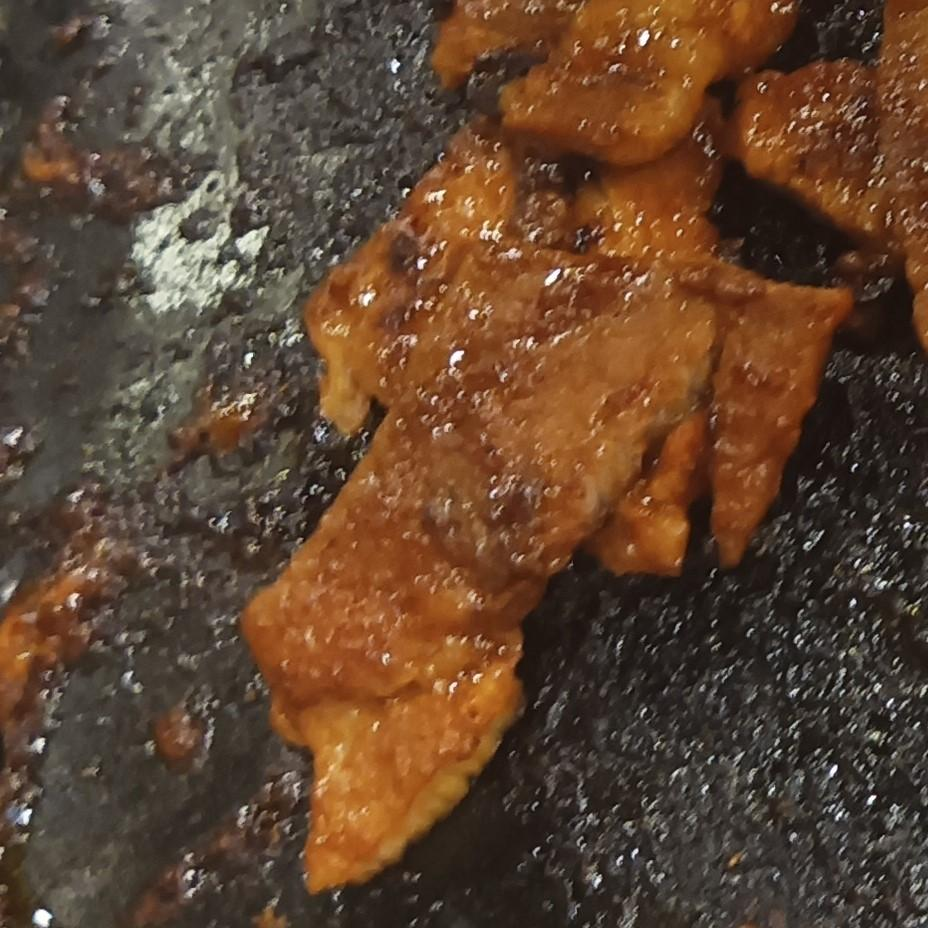Overcooked: (723, 3, 927, 336)
Well-Cooked: (237, 99, 854, 897), (433, 0, 796, 170)
